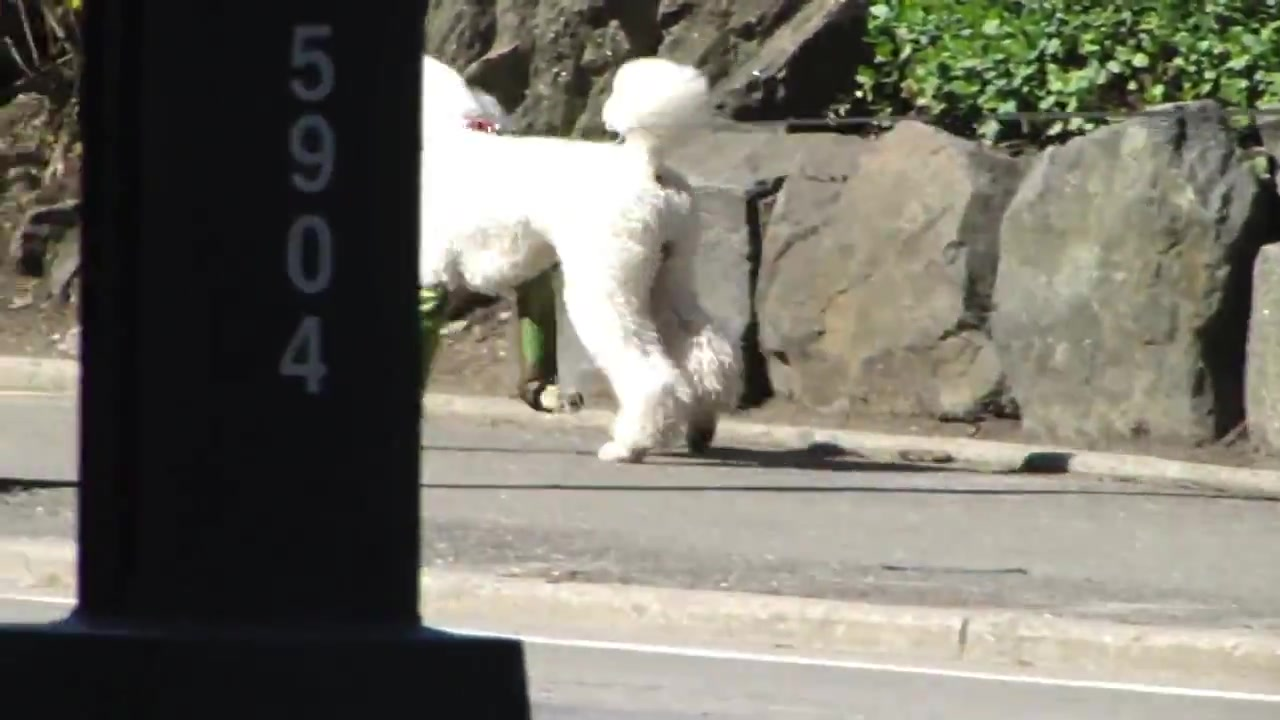dog: (423, 30, 736, 456)
